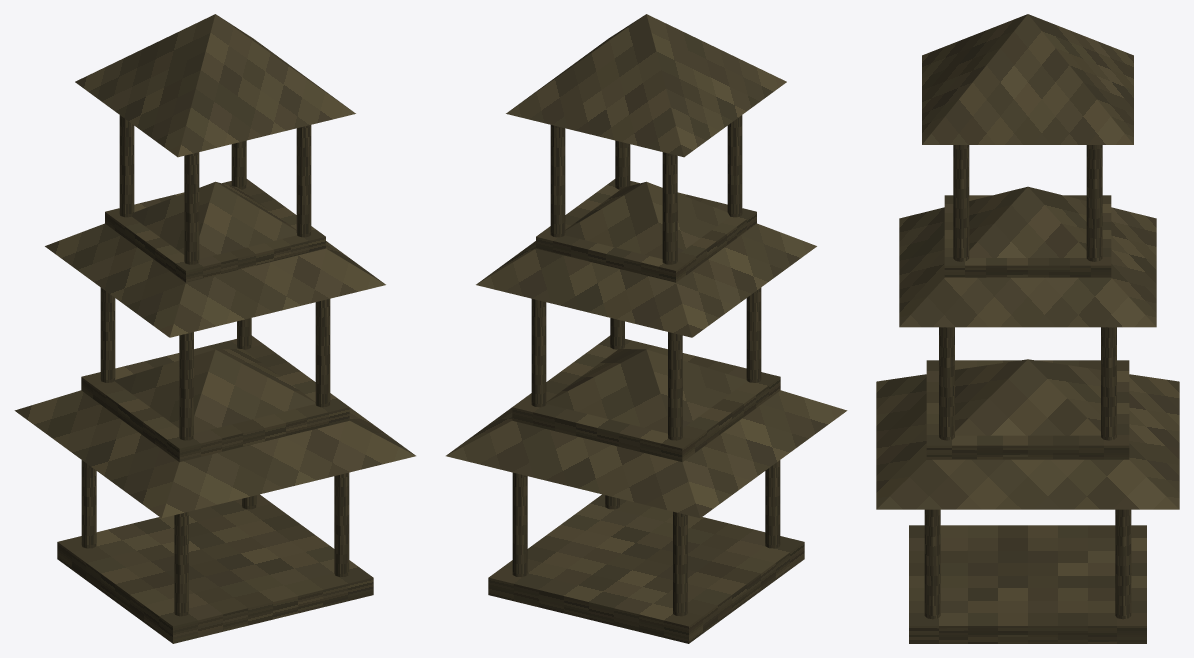
File: pagoda_63.glb
The picture shows the model from 3 angles, left to right: view 1: azimuth 30°, elevation 25°; view 2: azimuth 150°, elevation 25°; view 3: azimuth 270°, elevation 25°; orthographic projection. The views are drawn at different scales.
Visible parts, largest first — view 1: Roof, Floor, Roof.001, Roof.002, Floor.001, Floor.002, Column.008, Column.010, Column.006, Column.002, Column.004, Column.009 (+4 smaller); view 2: Roof, Floor, Roof.001, Roof.002, Floor.001, Floor.002, Column.009, Column.011, Column.007, Column.003, Column.005, Column.008 (+4 smaller); view 3: Roof, Roof.001, Floor, Roof.002, Floor.001, Floor.002, Column.010, Column.011, Column.002, Column.003, Column.006, Column.007.
Boxes of the visible parts, x1,y1,x2,y2 form: Roof: (14, 349, 415, 518); Floor: (57, 494, 373, 643); Roof.001: (45, 181, 385, 337); Roof.002: (75, 14, 355, 157); Floor.001: (81, 335, 349, 462); Floor.002: (105, 179, 325, 282); Column.008: (184, 152, 199, 264); Column.010: (296, 125, 311, 237); Column.006: (315, 299, 330, 407); Column.002: (334, 472, 349, 577); Column.004: (179, 332, 193, 440); Column.009: (119, 115, 134, 217); Roof: (446, 349, 847, 518); Floor: (488, 494, 804, 643); Roof.001: (476, 181, 816, 337); Roof.002: (506, 14, 786, 157); Floor.001: (512, 335, 780, 462); Floor.002: (536, 179, 756, 282); Column.009: (662, 152, 677, 264); Column.011: (550, 125, 565, 237); Column.007: (531, 299, 546, 407); Column.003: (512, 472, 527, 577); Column.005: (668, 332, 682, 440); Column.008: (727, 115, 742, 217); Roof: (876, 359, 1179, 509); Roof.001: (899, 186, 1156, 327); Floor: (909, 525, 1146, 643); Roof.002: (922, 14, 1133, 144); Floor.001: (926, 360, 1129, 459); Floor.002: (944, 195, 1111, 277); Column.010: (953, 145, 969, 261); Column.011: (1086, 145, 1102, 261); Column.002: (924, 509, 940, 619); Column.003: (1115, 509, 1131, 619); Column.006: (939, 327, 954, 440); Column.007: (1101, 327, 1116, 440).
Bounding box in the file's own units: 4.58 × 9.67 × 4.58.
1 material, 1 textured.
